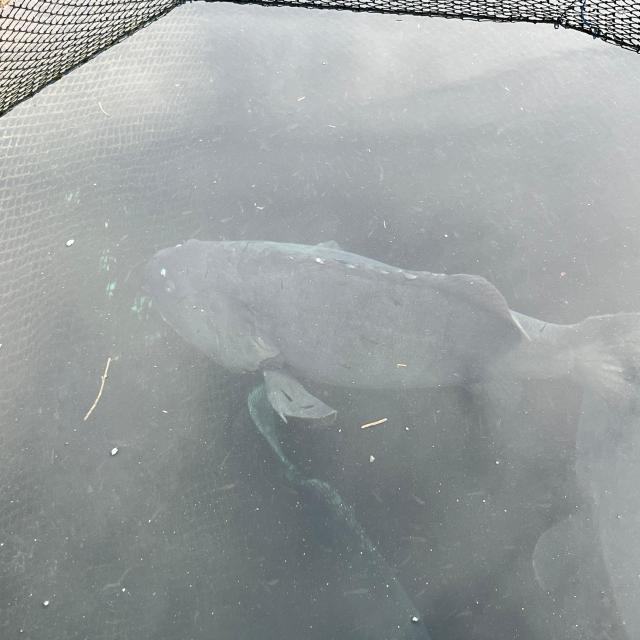ikan: (145, 236, 638, 430)
